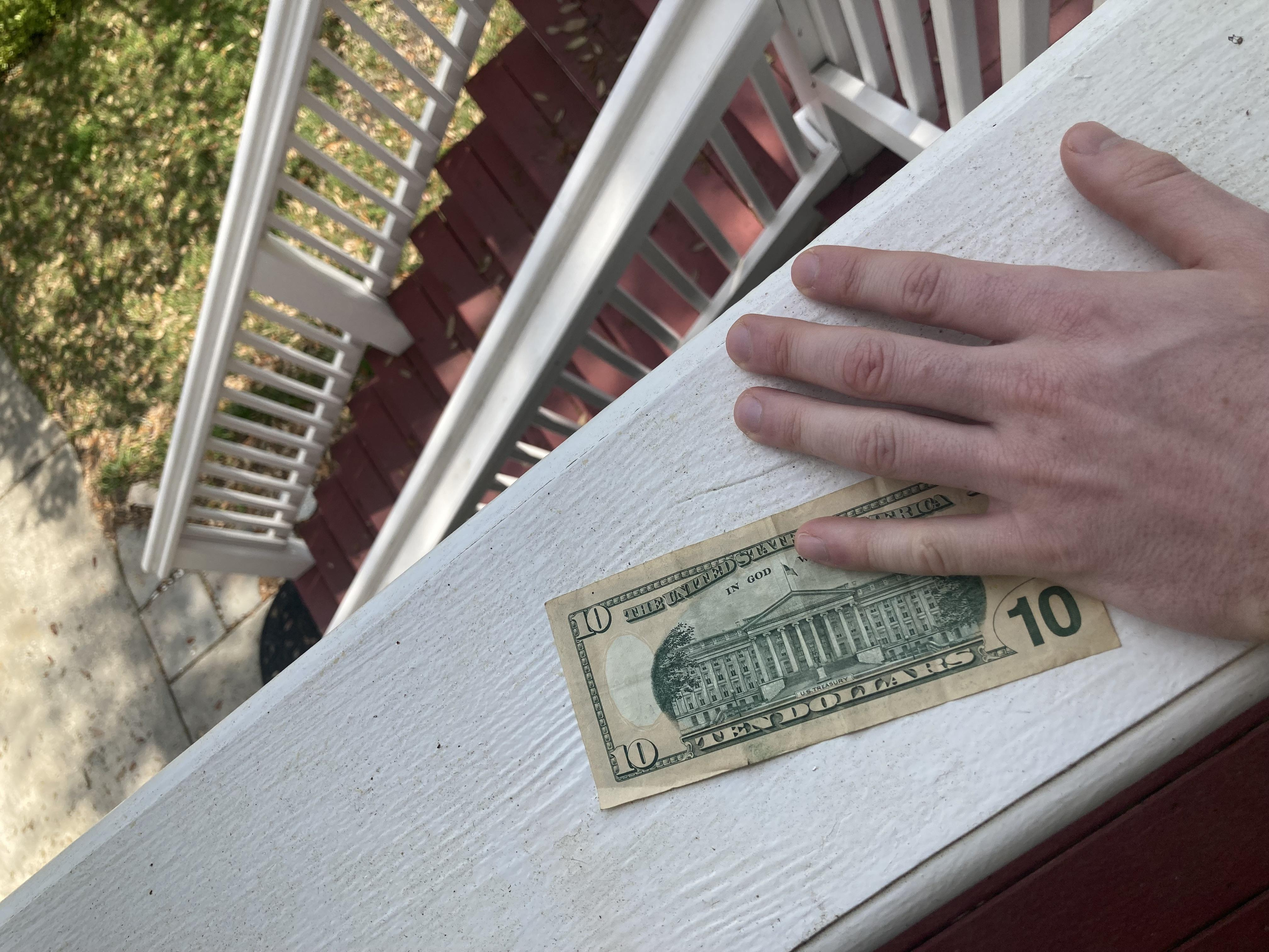ten-back: (193, 408, 705, 843)
